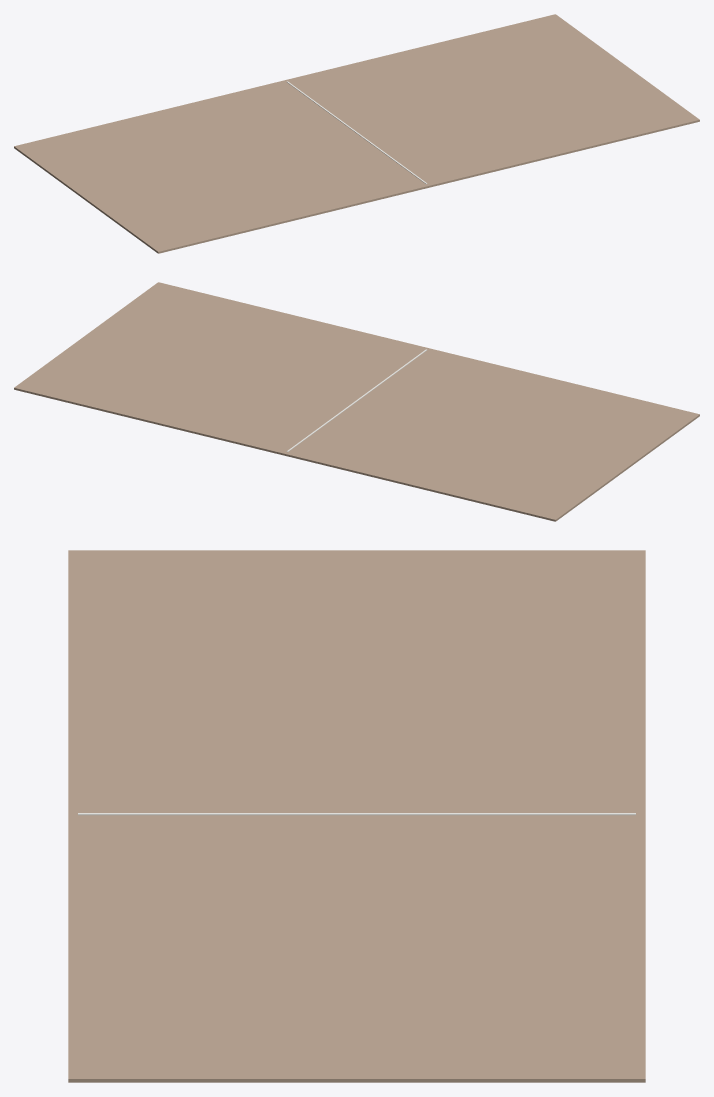
File: tennis-court.glb
The picture shows the model from 3 angles, top to bottom: view 1: azimuth 30°, elevation 25°; view 2: azimuth 150°, elevation 25°; view 3: azimuth 270°, elevation 25°; orthographic projection. The views are drawn at different scales.
Parts seen in each view (by area): view 1: spatial-root; view 2: spatial-root; view 3: spatial-root.
Boxes of the visible parts, x1=… form: spatial-root: x1=14, y1=14, x2=699, y2=253; spatial-root: x1=14, y1=282, x2=699, y2=521; spatial-root: x1=68, y1=550, x2=645, y2=1082.
Bounding box in the file's own units: 23.77 × 0.1 × 10.97.
